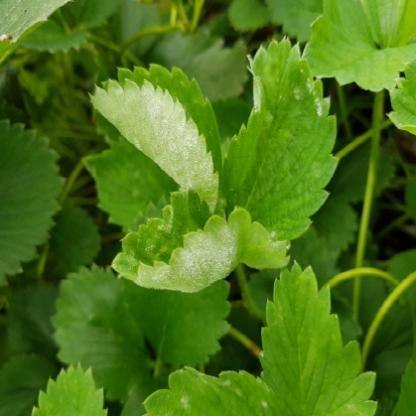Strawberry_Powdery_Mildew_Leaf: (222, 35, 340, 248), (88, 63, 224, 216), (112, 187, 290, 292), (141, 366, 295, 415)
